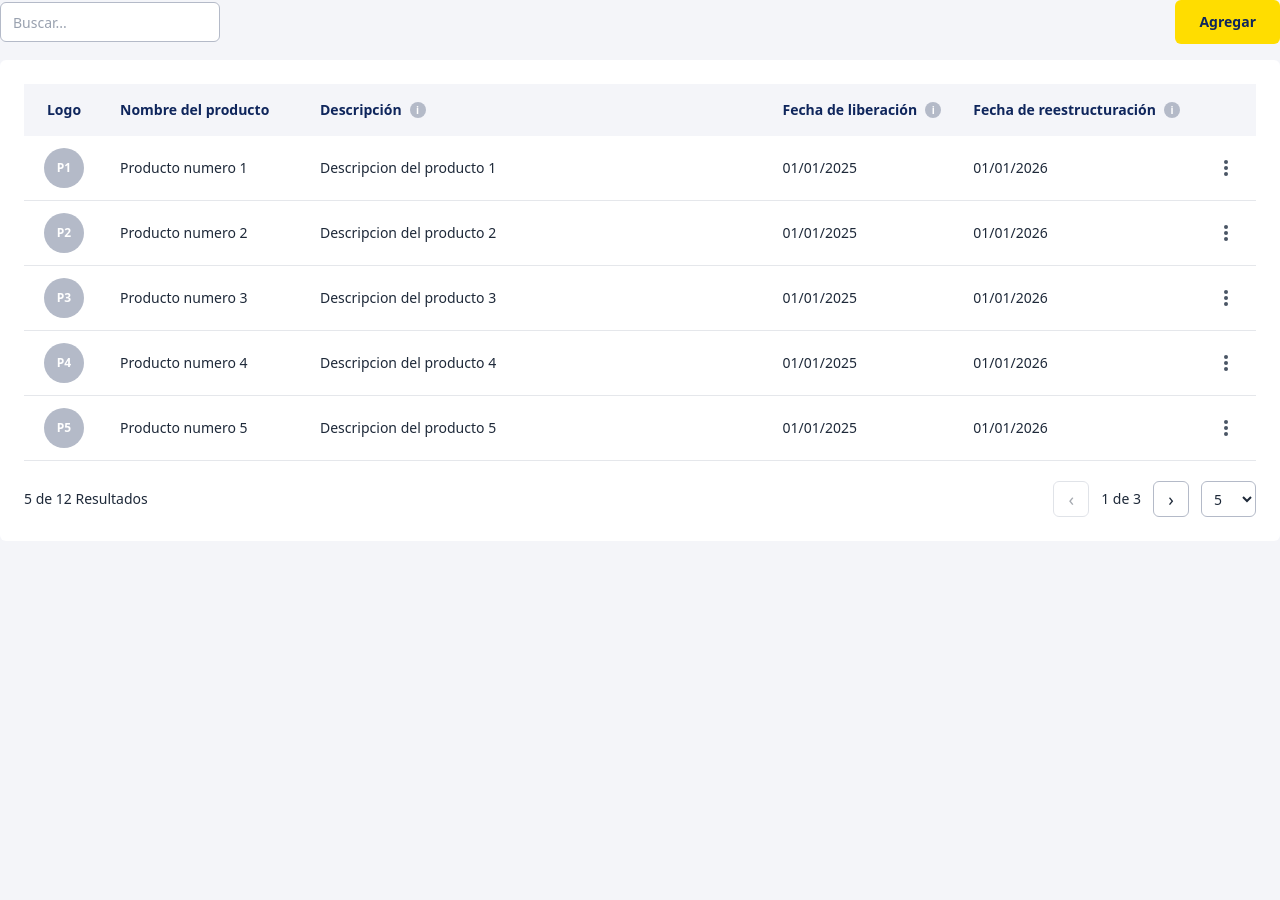
Test: ProductsComponent › cantidad de registros y paginacion › deberia volver a la primera pagina cuando se cambia la cantidad de registros
Click the button named "Página siguiente".
click(1171, 499)  # box [1153,481,1189,517]
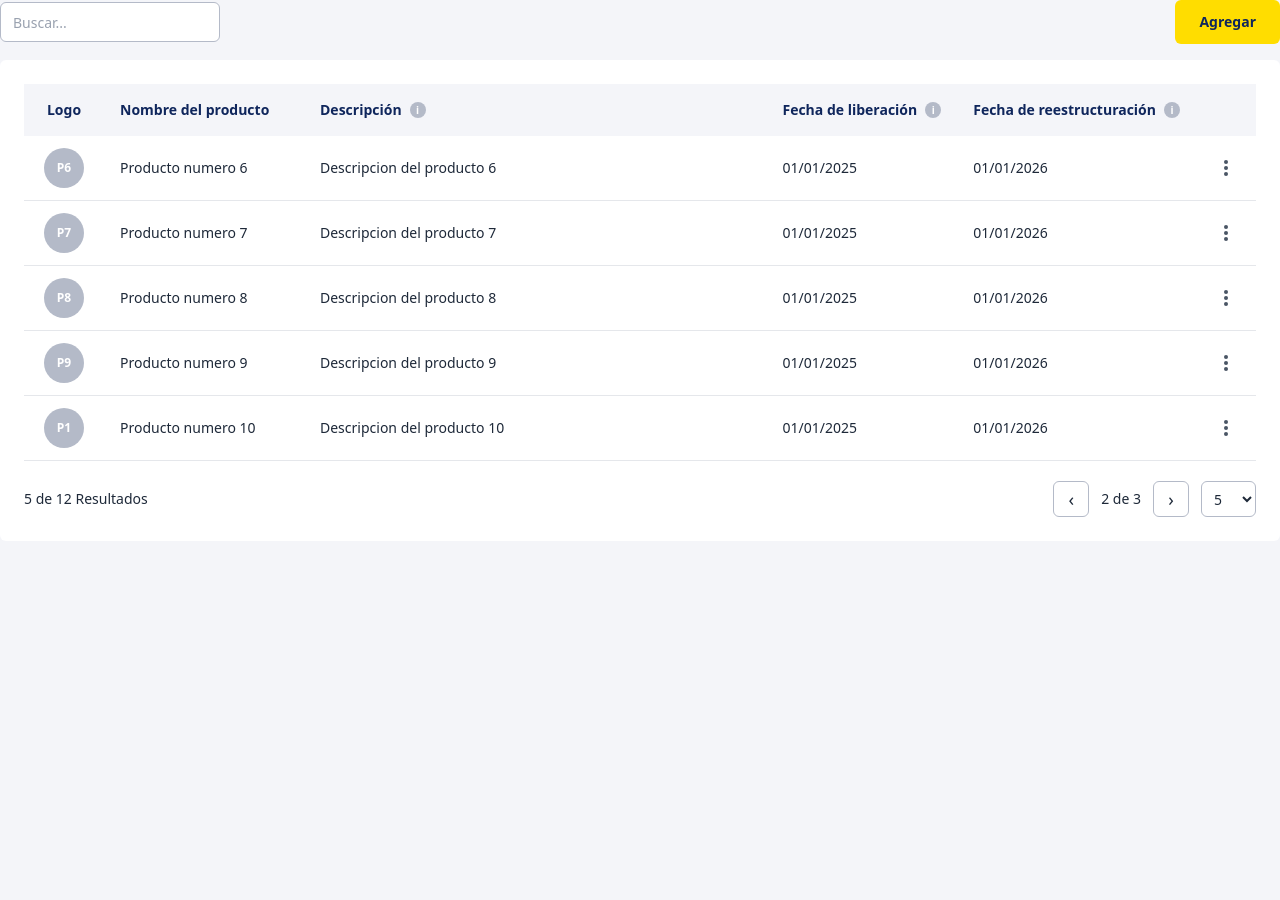
Select "10" in the dropdown named "Cantidad de registros a mostrar" at (1228, 499), box [1201,481,1256,517]
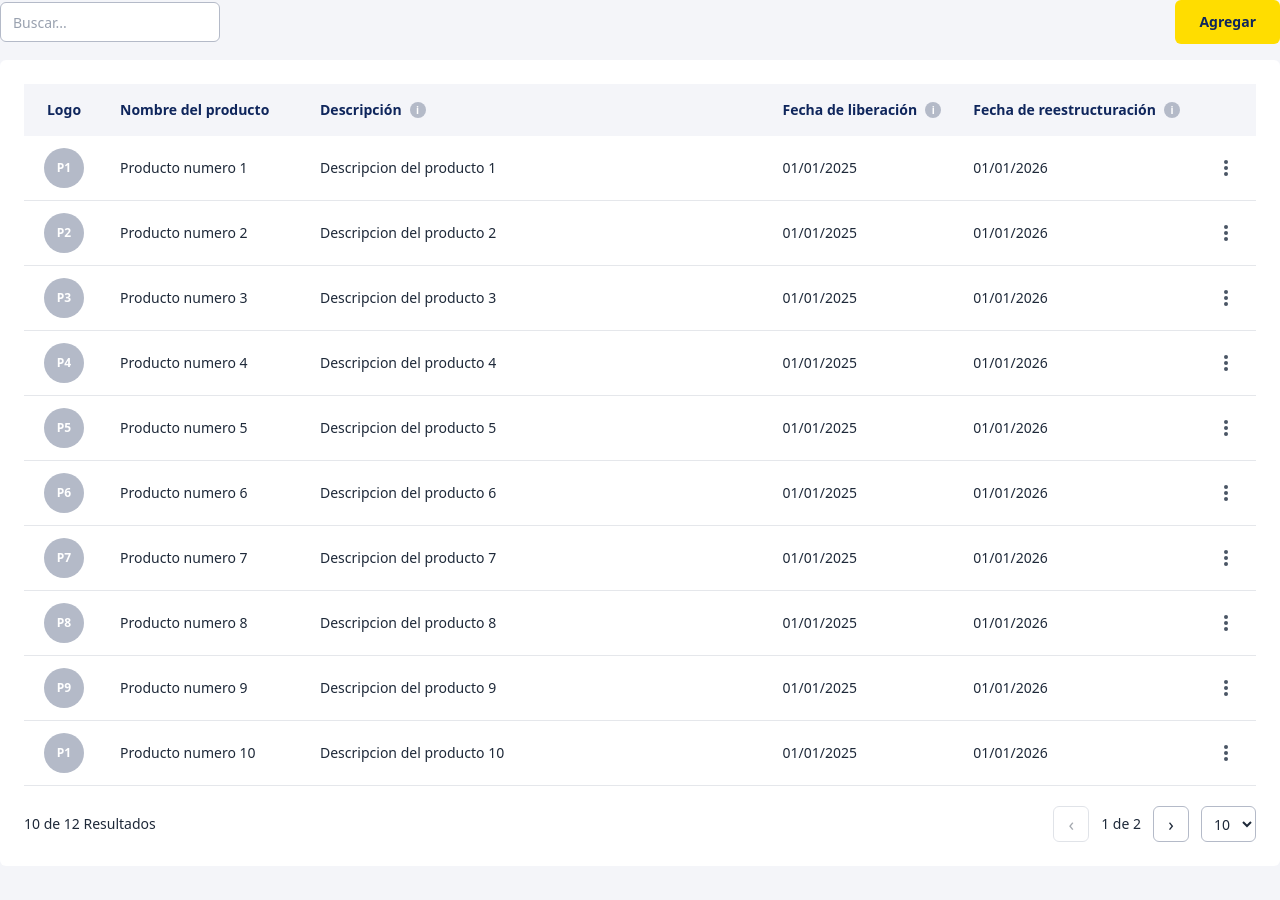
expect the row that starts with "Producto numero 1" is shown: met, box [120,158,248,177]
